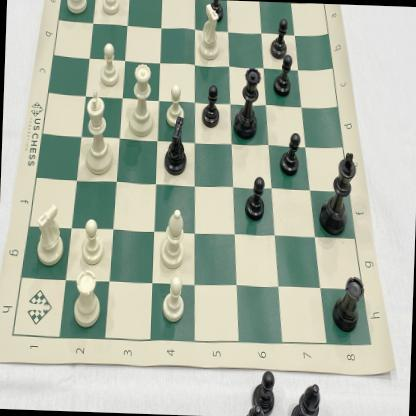bishop: (158, 208, 188, 271)
king: (316, 145, 358, 238), (80, 87, 118, 178)
knight: (32, 202, 68, 268), (160, 116, 191, 178), (197, 0, 223, 66)
pawn: (158, 274, 188, 326), (242, 171, 270, 225), (78, 216, 106, 268), (198, 80, 223, 132), (278, 130, 302, 181), (270, 53, 296, 98), (98, 41, 122, 89), (162, 82, 186, 129), (267, 16, 290, 62), (206, 0, 228, 25), (98, 0, 125, 20)
queen: (231, 63, 264, 143), (128, 59, 158, 139)
rook: (328, 270, 366, 336), (72, 269, 104, 330), (62, 0, 91, 18)
